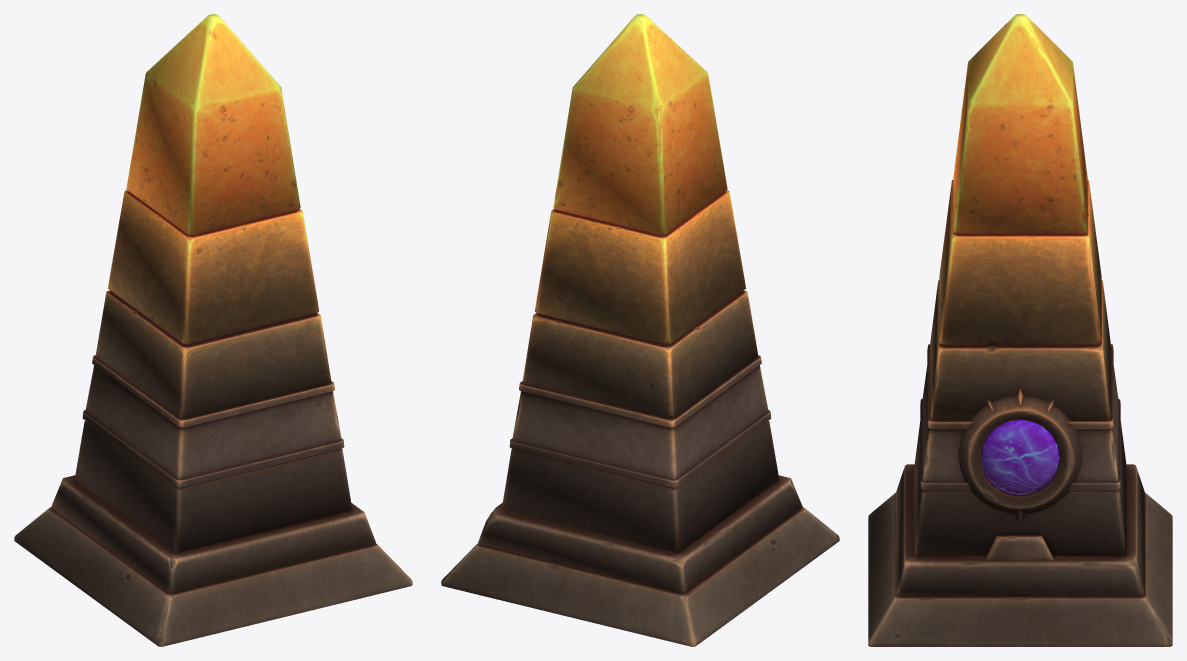
The model's file is Obelisque.fbx.
3 renders of one model, left to right at view 1: azimuth 30°, elevation 25°; view 2: azimuth 150°, elevation 25°; view 3: azimuth 270°, elevation 25°, orthographic. The views are drawn at different scales.
Visible parts, largest first — view 1: Obelisque; view 2: Obelisque; view 3: Obelisque.
Part boxes in pixels (x1,y1,x2,y2): Obelisque: (14, 14, 412, 646); Obelisque: (441, 14, 839, 646); Obelisque: (868, 14, 1172, 646).
Bounding box in the file's own units: 42.49 × 87.22 × 42.49.
1 material, 1 textured.
